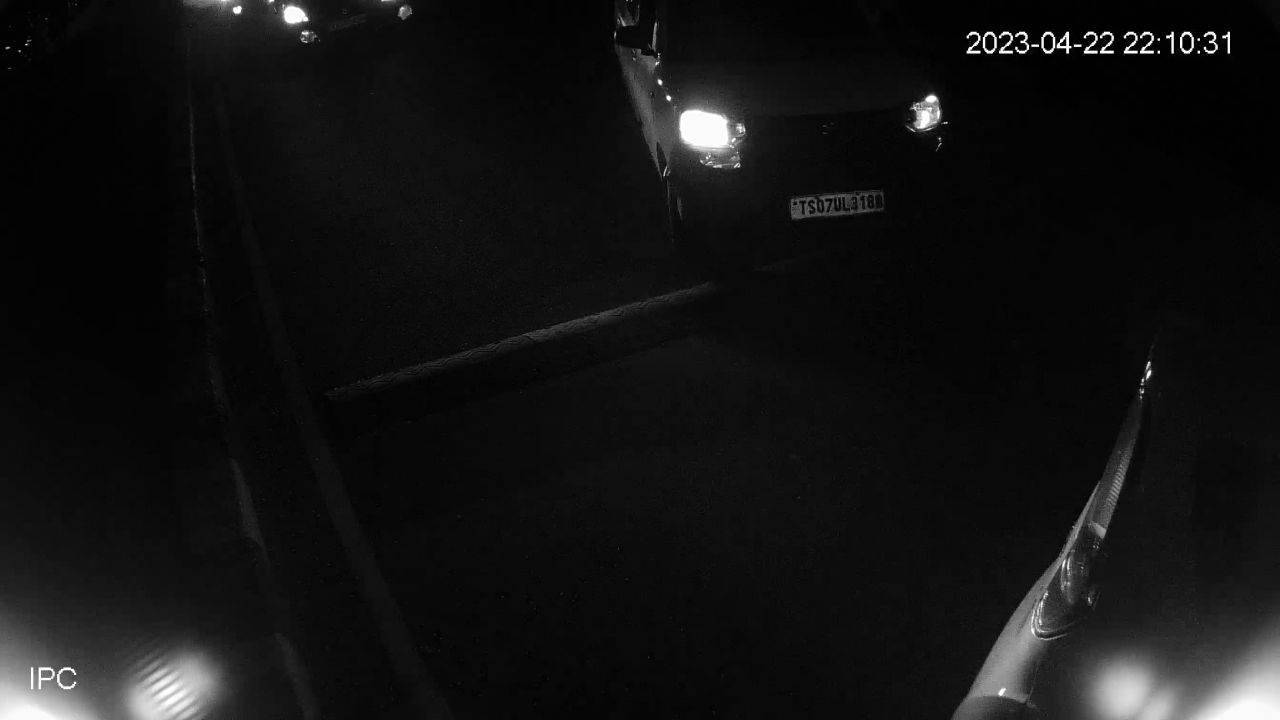license_plate: (785, 183, 893, 230)
